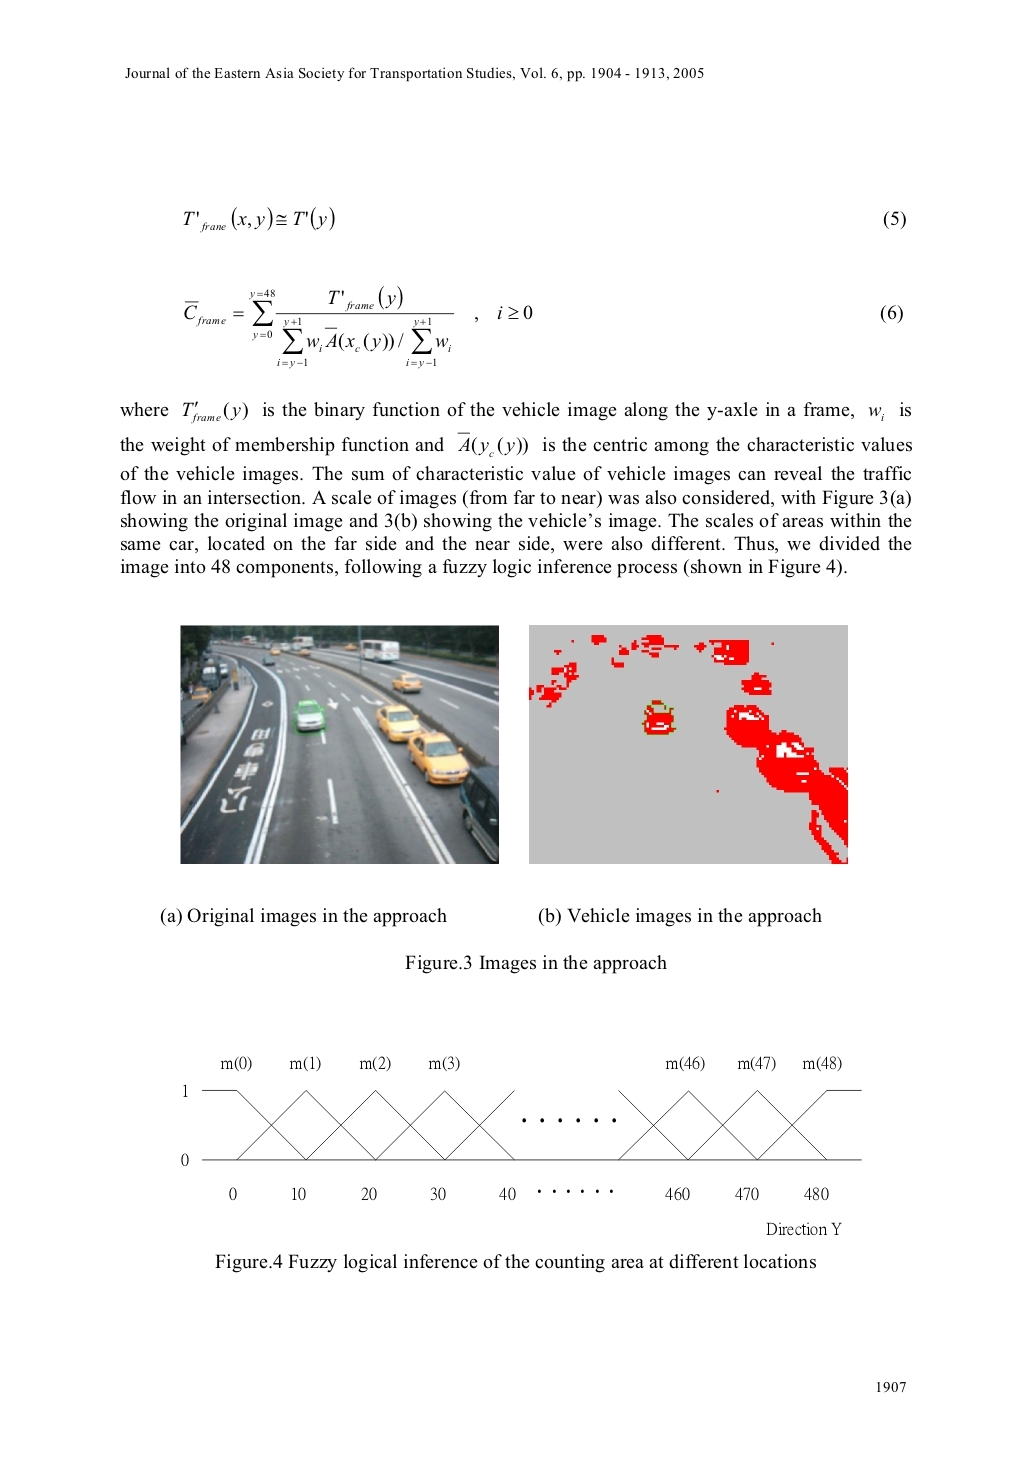figure: (181, 1056, 861, 1235), (528, 624, 848, 864), (180, 624, 498, 864)
formula: (184, 286, 902, 368), (183, 206, 905, 233)
